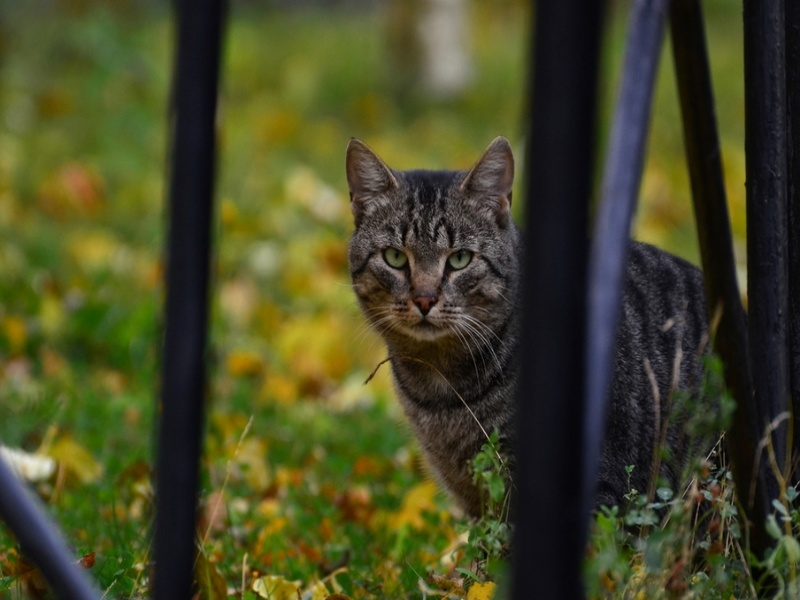cat: (339, 133, 778, 541)
